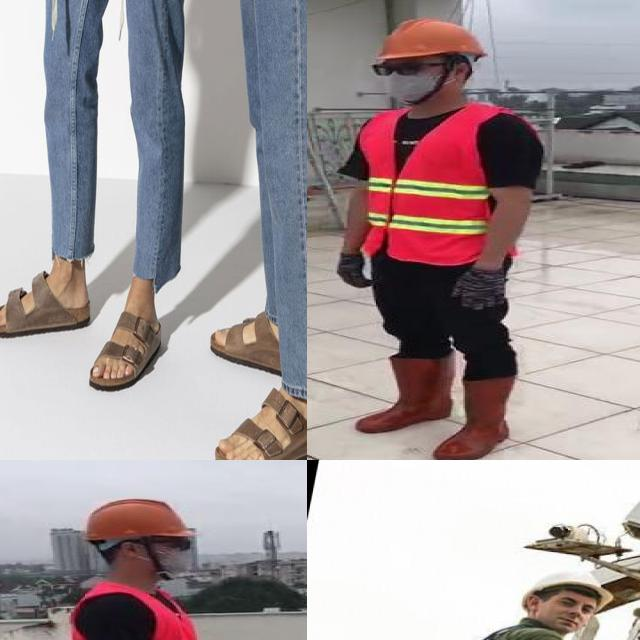Sandals: (88, 286, 163, 395), (217, 374, 307, 460), (0, 270, 94, 339)
boots: (355, 355, 456, 435), (433, 376, 515, 460)
face_mask: (371, 60, 445, 106), (146, 534, 198, 573)
glasses: (364, 58, 426, 78), (151, 532, 197, 552)
hand_glove: (452, 267, 513, 312), (335, 252, 378, 289)
head_helmet: (85, 494, 199, 542), (368, 17, 489, 61)
person: (315, 11, 543, 460), (55, 495, 245, 640)
vest: (358, 107, 529, 263), (62, 582, 229, 640)
